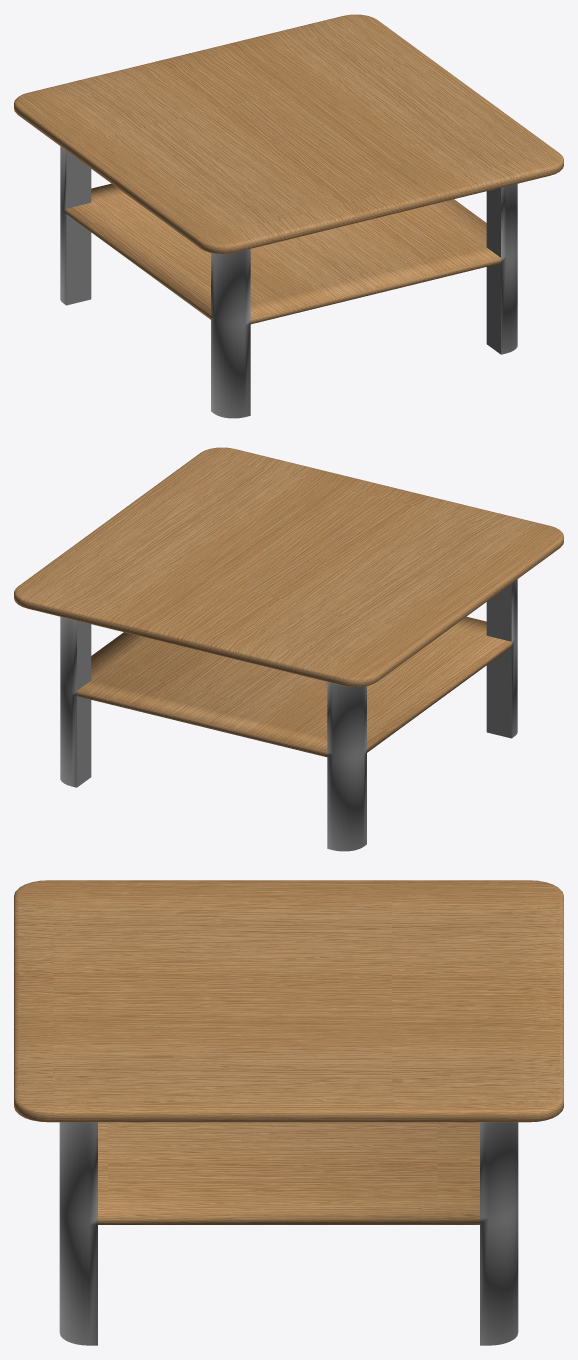
Rendered from coffeetable.dae.
3 views of the same model, one above another, from view 1: azimuth 30°, elevation 25°; view 2: azimuth 150°, elevation 25°; view 3: azimuth 270°, elevation 25° (orthographic). The views are drawn at different scales.
Parts seen in each view (by area): view 1: Cube; view 2: Cube; view 3: Cube.
Boxes of the visible parts, x1,y1,x2,y2 form: Cube: (14, 14, 563, 418); Cube: (14, 447, 563, 851); Cube: (14, 880, 563, 1345).
Bounding box in the file's own units: 78.74 × 78.74 × 40.06.
2 materials, 1 textured.
